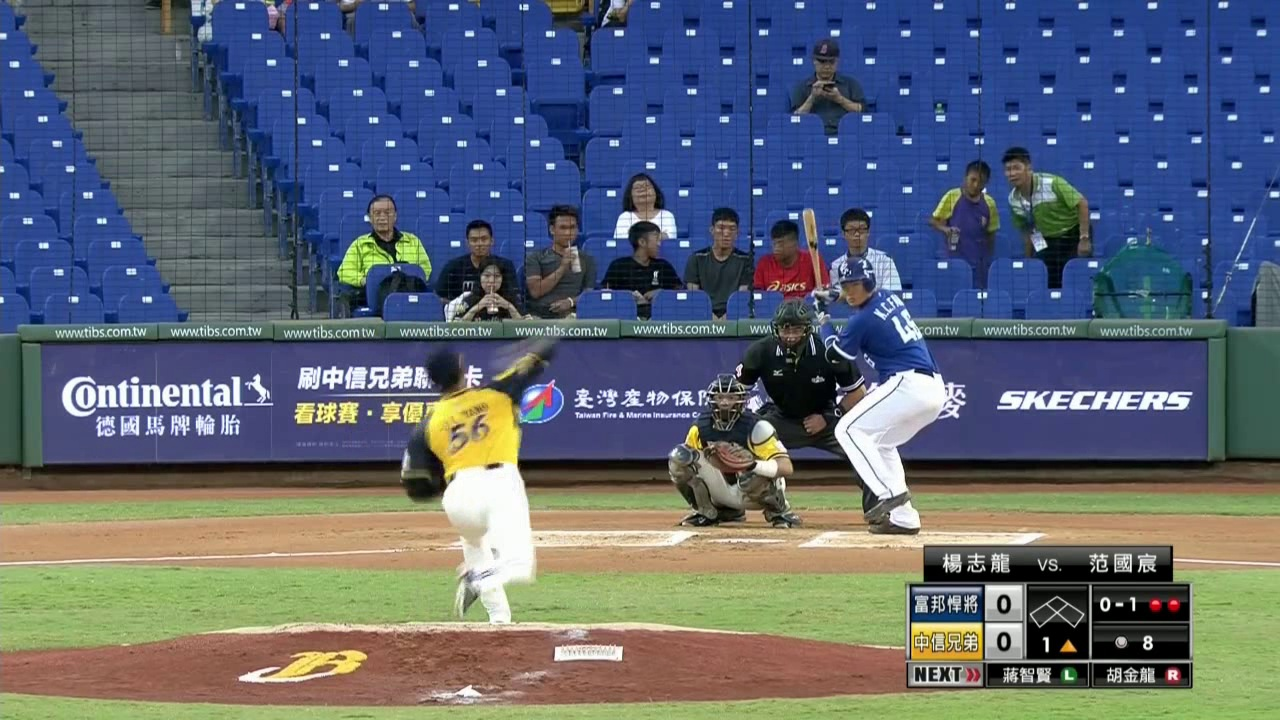base: (1028, 594, 1086, 629)
bat: (799, 204, 827, 294)
out: (1145, 596, 1183, 614)
score1: (985, 585, 1023, 621)
score2: (985, 622, 1023, 658)
session: (1038, 633, 1079, 655)
strikeball: (1097, 594, 1139, 613)
total: (1111, 628, 1159, 655)
